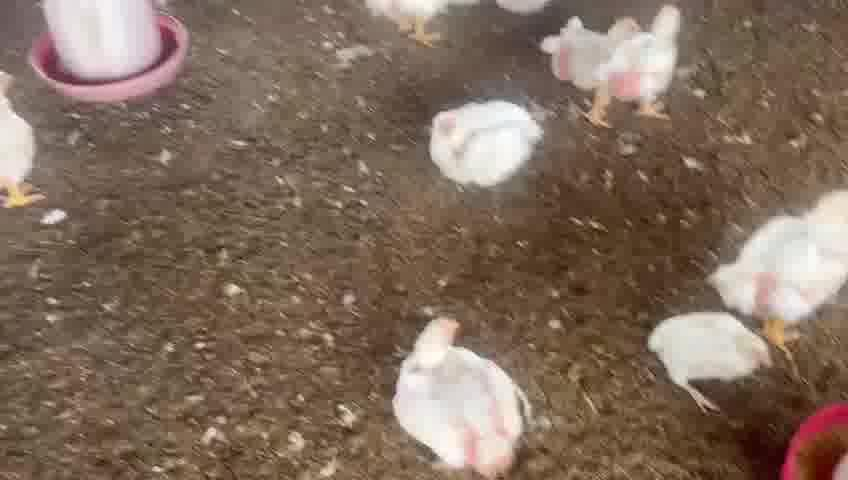AbNormal: (639, 290, 773, 408)
Normal: (392, 309, 540, 480), (710, 176, 848, 320), (411, 85, 544, 198), (592, 7, 695, 115), (535, 10, 613, 86)
